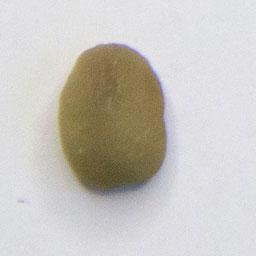premium: (55, 40, 170, 195)
